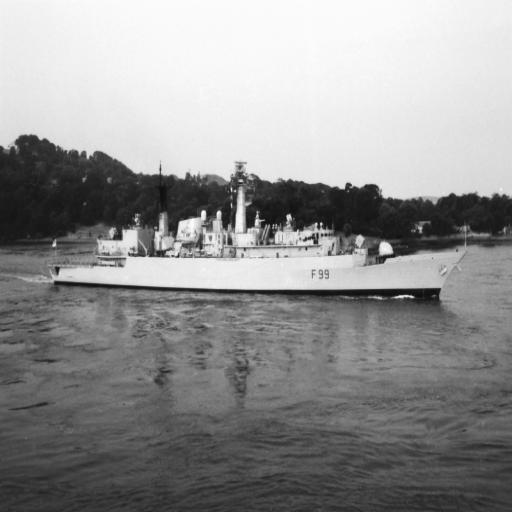Fragata: (48, 149, 473, 305)
